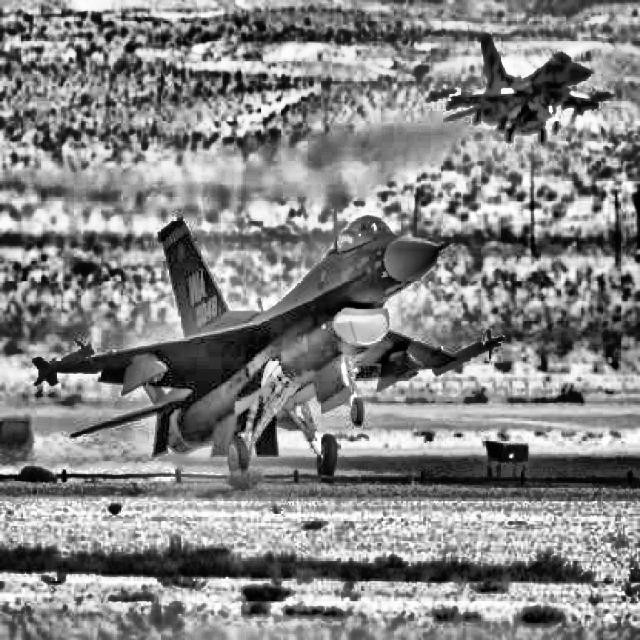F16: (32, 214, 505, 475), (429, 34, 614, 144)
